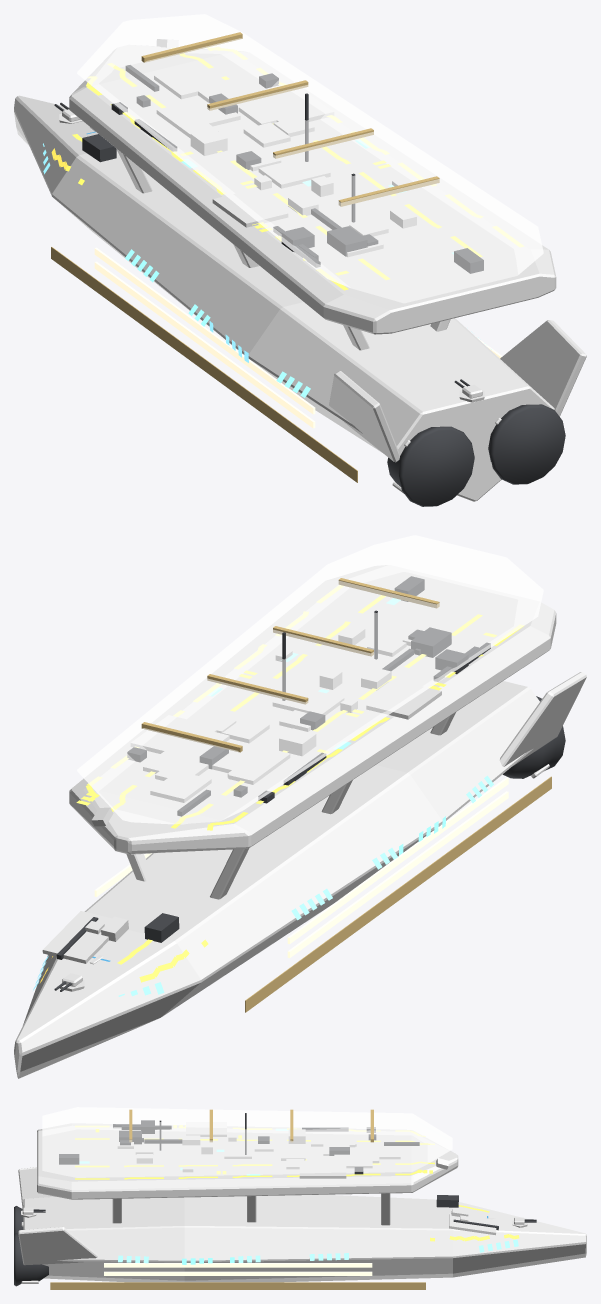
Rendered from avrora.glb.
3 views of the same model, one above another, from view 1: azimuth 30°, elevation 25°; view 2: azimuth 150°, elevation 25°; view 3: azimuth 270°, elevation 25° (orthographic). The views are drawn at different scales.
Visible parts, largest first — view 1: Галерея, Киль_галереи, Корпус, Накладные_плиты, Механика, Кожух_дюзы.001, Кожух_дюзы, Плавник, Полоса.001, Разметка, Плавник.001, Окна.003 (+6 smaller); view 2: Галерея, Корпус, Киль_галереи, Накладные_плиты, Механика, Разметка, Полоса.001, Плавник.001, Окна.003, Окна.002, Решётки, Кожух_дюзы.001 (+5 smaller); view 3: Корпус, Галерея, Киль_галереи, Накладные_плиты, Полоса, Механика, Плавник, Разметка, Окна.001, Окна, Решётки, Кожух_дюзы (+3 smaller).
Part boxes in pixels (box(x1,y1,x2,y2)): Галерея: box(77, 14, 543, 303); Киль_галереи: box(69, 45, 556, 334); Корпус: box(14, 95, 554, 501); Накладные_плиты: box(154, 39, 416, 256); Механика: box(82, 65, 483, 273); Кожух_дюзы.001: box(387, 426, 474, 506); Кожух_дюзы: box(488, 404, 565, 484); Плавник: box(500, 320, 586, 416); Полоса.001: box(51, 247, 357, 482); Разметка: box(51, 47, 523, 290); Плавник.001: box(329, 371, 399, 462); Окна.003: box(94, 261, 315, 428); Галерея: box(77, 535, 543, 824); Корпус: box(14, 681, 539, 1078); Киль_галереи: box(69, 565, 556, 854); Накладные_плиты: box(42, 625, 451, 963); Механика: box(56, 576, 490, 959); Разметка: box(40, 585, 524, 982); Полоса.001: box(245, 776, 551, 1012); Плавник.001: box(499, 672, 586, 766); Окна.003: box(287, 791, 508, 957); Окна.002: box(287, 777, 508, 943); Решётки: box(33, 598, 493, 996); Кожух_дюзы.001: box(503, 696, 565, 778); Корпус: box(23, 1194, 586, 1282); Галерея: box(42, 1107, 452, 1177); Киль_галереи: box(37, 1123, 458, 1199); Накладные_плиты: box(117, 1122, 496, 1235); Полоса: box(50, 1282, 425, 1289); Механика: box(59, 1113, 498, 1230); Плавник: box(18, 1227, 97, 1265); Разметка: box(75, 1125, 519, 1241); Окна.001: box(104, 1271, 372, 1275); Окна: box(104, 1263, 372, 1267); Решётки: box(79, 1129, 518, 1264); Кожух_дюзы: box(14, 1233, 48, 1286).
Size of the model in its own units: 0.5999 by 0.7176 by 2.14.
